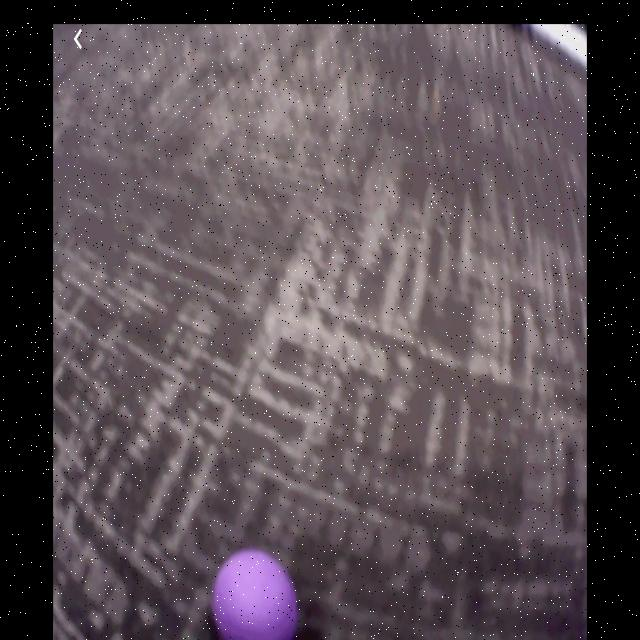ball: (212, 548, 297, 640)
